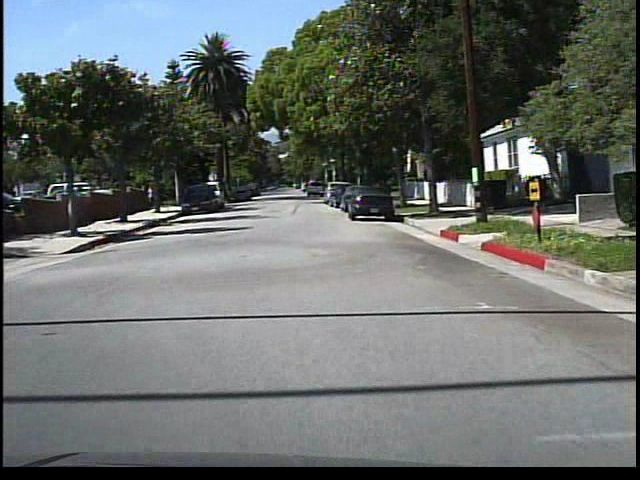person: (145, 183, 158, 212)
